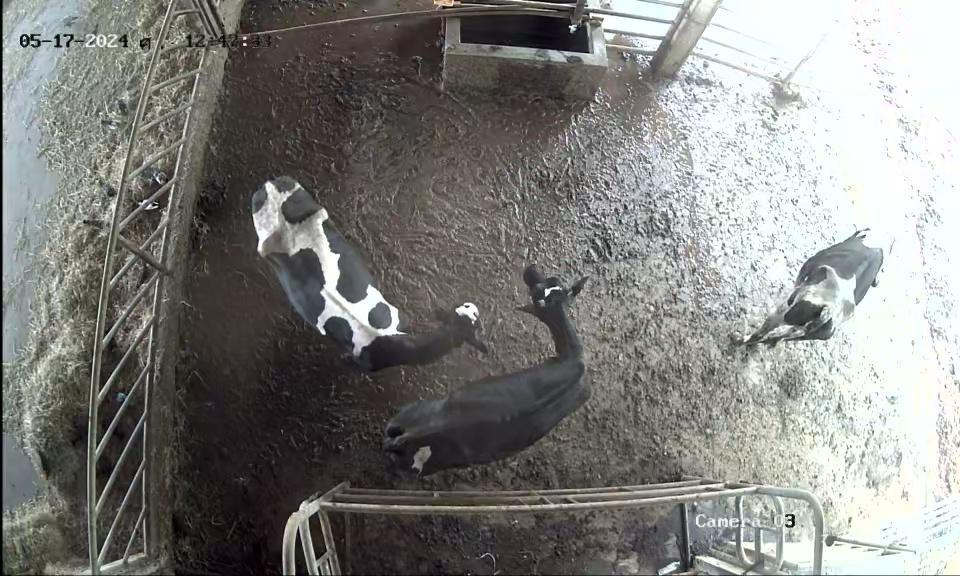lay: (242, 162, 496, 379)
stand: (371, 241, 626, 488), (738, 186, 918, 379)
